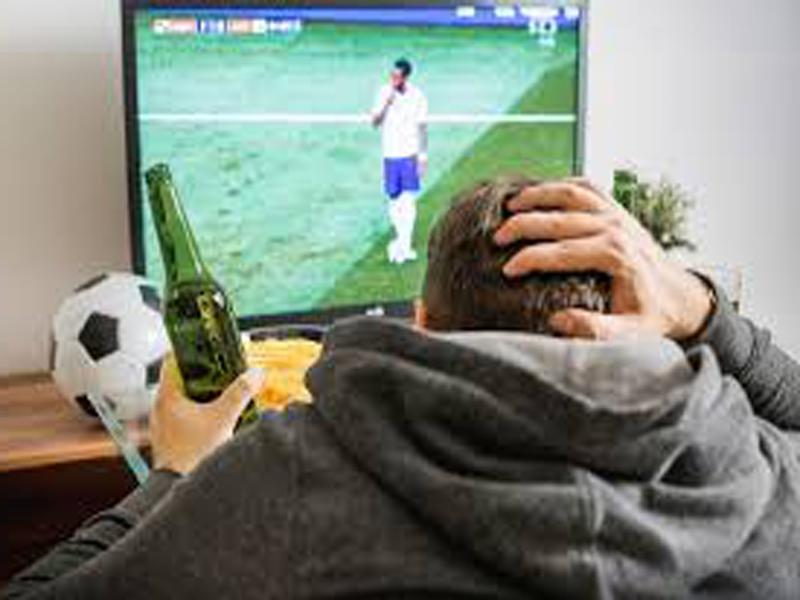Beer: (144, 164, 249, 439)
